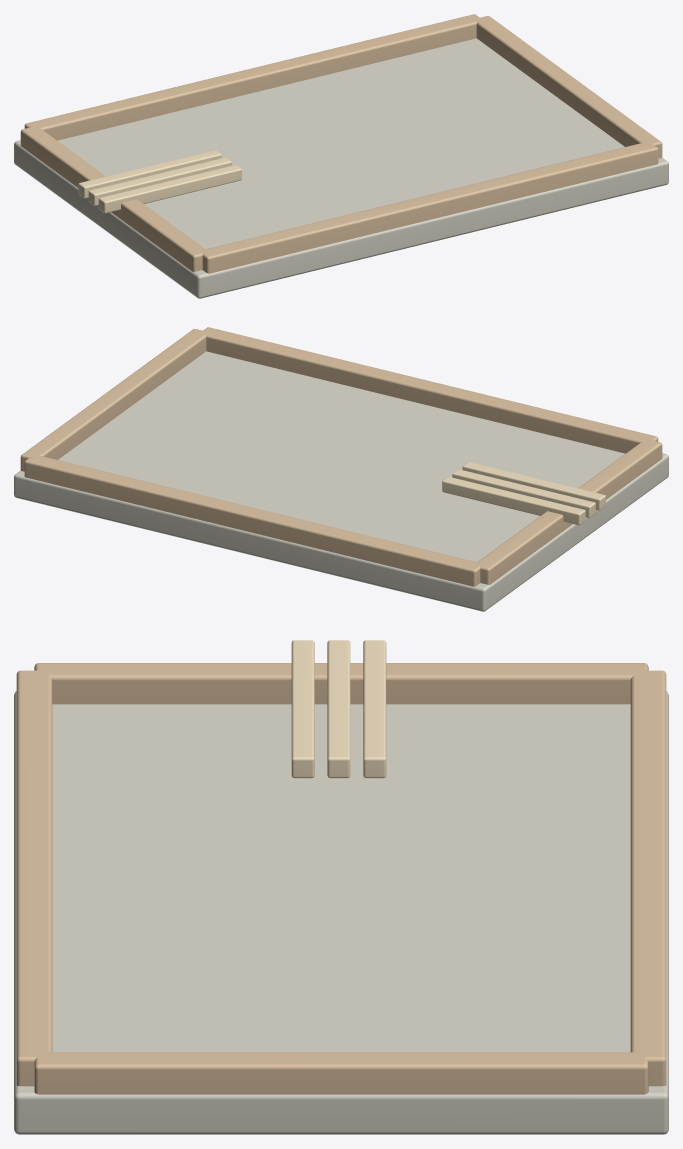
The model's file is cattle-shelter-foundation.glb.
3 views of the same model, one above another, from view 1: azimuth 30°, elevation 25°; view 2: azimuth 150°, elevation 25°; view 3: azimuth 270°, elevation 25° (orthographic). The views are drawn at different scales.
Visible parts, largest first — view 1: Rounded stone footing.016, Sill beam.064, Sill beam.065, Sill beam.067, Sill beam.066, Staged lumber.012, Staged lumber.013, Staged lumber.014; view 2: Rounded stone footing.016, Sill beam.065, Sill beam.064, Sill beam.067, Sill beam.066, Staged lumber.014, Staged lumber.013, Staged lumber.012; view 3: Rounded stone footing.016, Sill beam.067, Sill beam.066, Sill beam.064, Sill beam.065, Staged lumber.014, Staged lumber.012, Staged lumber.013.
Part boxes in pixels (x1=…): Rounded stone footing.016: x1=14, y1=38, x2=668, y2=298; Sill beam.064: x1=201, y1=143, x2=658, y2=273; Sill beam.065: x1=24, y1=14, x2=481, y2=140; Sill beam.067: x1=475, y1=16, x2=662, y2=158; Sill beam.066: x1=20, y1=126, x2=205, y2=271; Staged lumber.012: x1=98, y1=165, x2=241, y2=213; Staged lumber.013: x1=88, y1=157, x2=231, y2=205; Staged lumber.014: x1=78, y1=150, x2=221, y2=198; Rounded stone footing.016: x1=14, y1=351, x2=668, y2=611; Sill beam.065: x1=24, y1=456, x2=481, y2=586; Sill beam.064: x1=201, y1=327, x2=658, y2=453; Sill beam.067: x1=20, y1=329, x2=207, y2=471; Sill beam.066: x1=477, y1=439, x2=662, y2=584; Staged lumber.014: x1=442, y1=476, x2=585, y2=525; Staged lumber.013: x1=452, y1=469, x2=595, y2=517; Staged lumber.012: x1=462, y1=462, x2=605, y2=510; Rounded stone footing.016: x1=14, y1=691, x2=668, y2=1134; Sill beam.067: x1=34, y1=1052, x2=648, y2=1094; Sill beam.066: x1=34, y1=663, x2=648, y2=704; Sill beam.064: x1=16, y1=670, x2=52, y2=1086; Sill beam.065: x1=630, y1=670, x2=666, y2=1086; Staged lumber.014: x1=363, y1=640, x2=386, y2=778; Staged lumber.012: x1=291, y1=640, x2=314, y2=778; Staged lumber.013: x1=327, y1=640, x2=350, y2=778.
Size of the model in its own units: 3.88 by 0.335 by 2.56.
